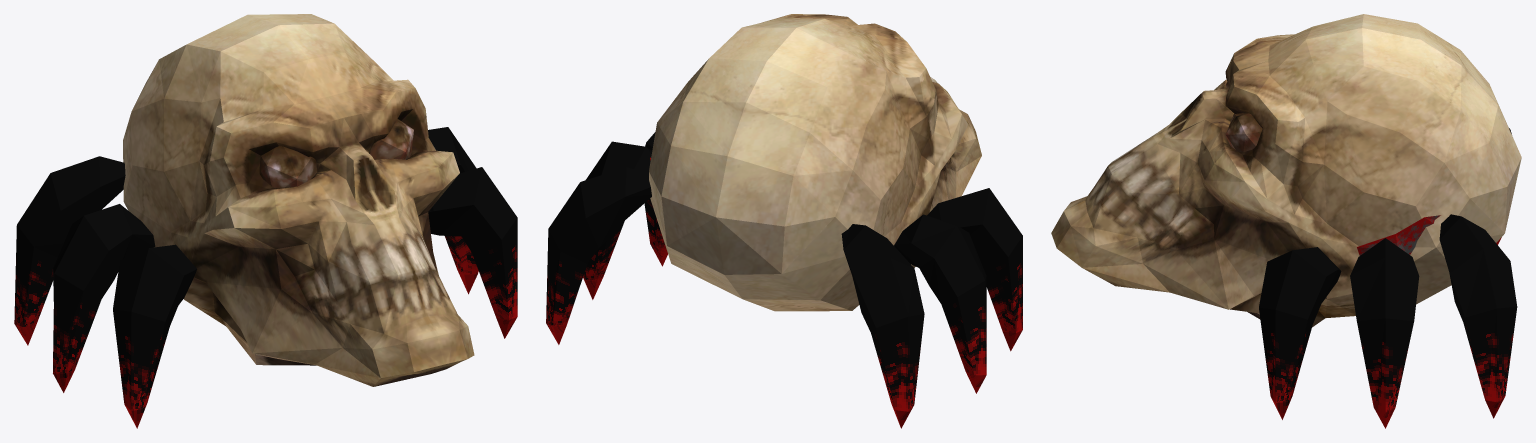
The model's file is baby-spider-lod0.glb.
3 renders of one model, left to right at view 1: azimuth 30°, elevation 25°; view 2: azimuth 150°, elevation 25°; view 3: azimuth 270°, elevation 25°, orthographic. The views are drawn at different scales.
Visible parts, largest first — view 1: Object_1, baby-spider-lod0; view 2: Object_1, baby-spider-lod0; view 3: Object_1, baby-spider-lod0.
Boxes of the visible parts, x1=… form: Object_1: x1=123, y1=14, x2=474, y2=386; baby-spider-lod0: x1=14, y1=127, x2=517, y2=428; Object_1: x1=649, y1=14, x2=981, y2=311; baby-spider-lod0: x1=546, y1=132, x2=1022, y2=428; Object_1: x1=1051, y1=14, x2=1521, y2=327; baby-spider-lod0: x1=1259, y1=128, x2=1517, y2=428.
Size of the model in its own units: 3.14 by 2.31 by 3.19.
Materials: 4 (4 with a texture image).
